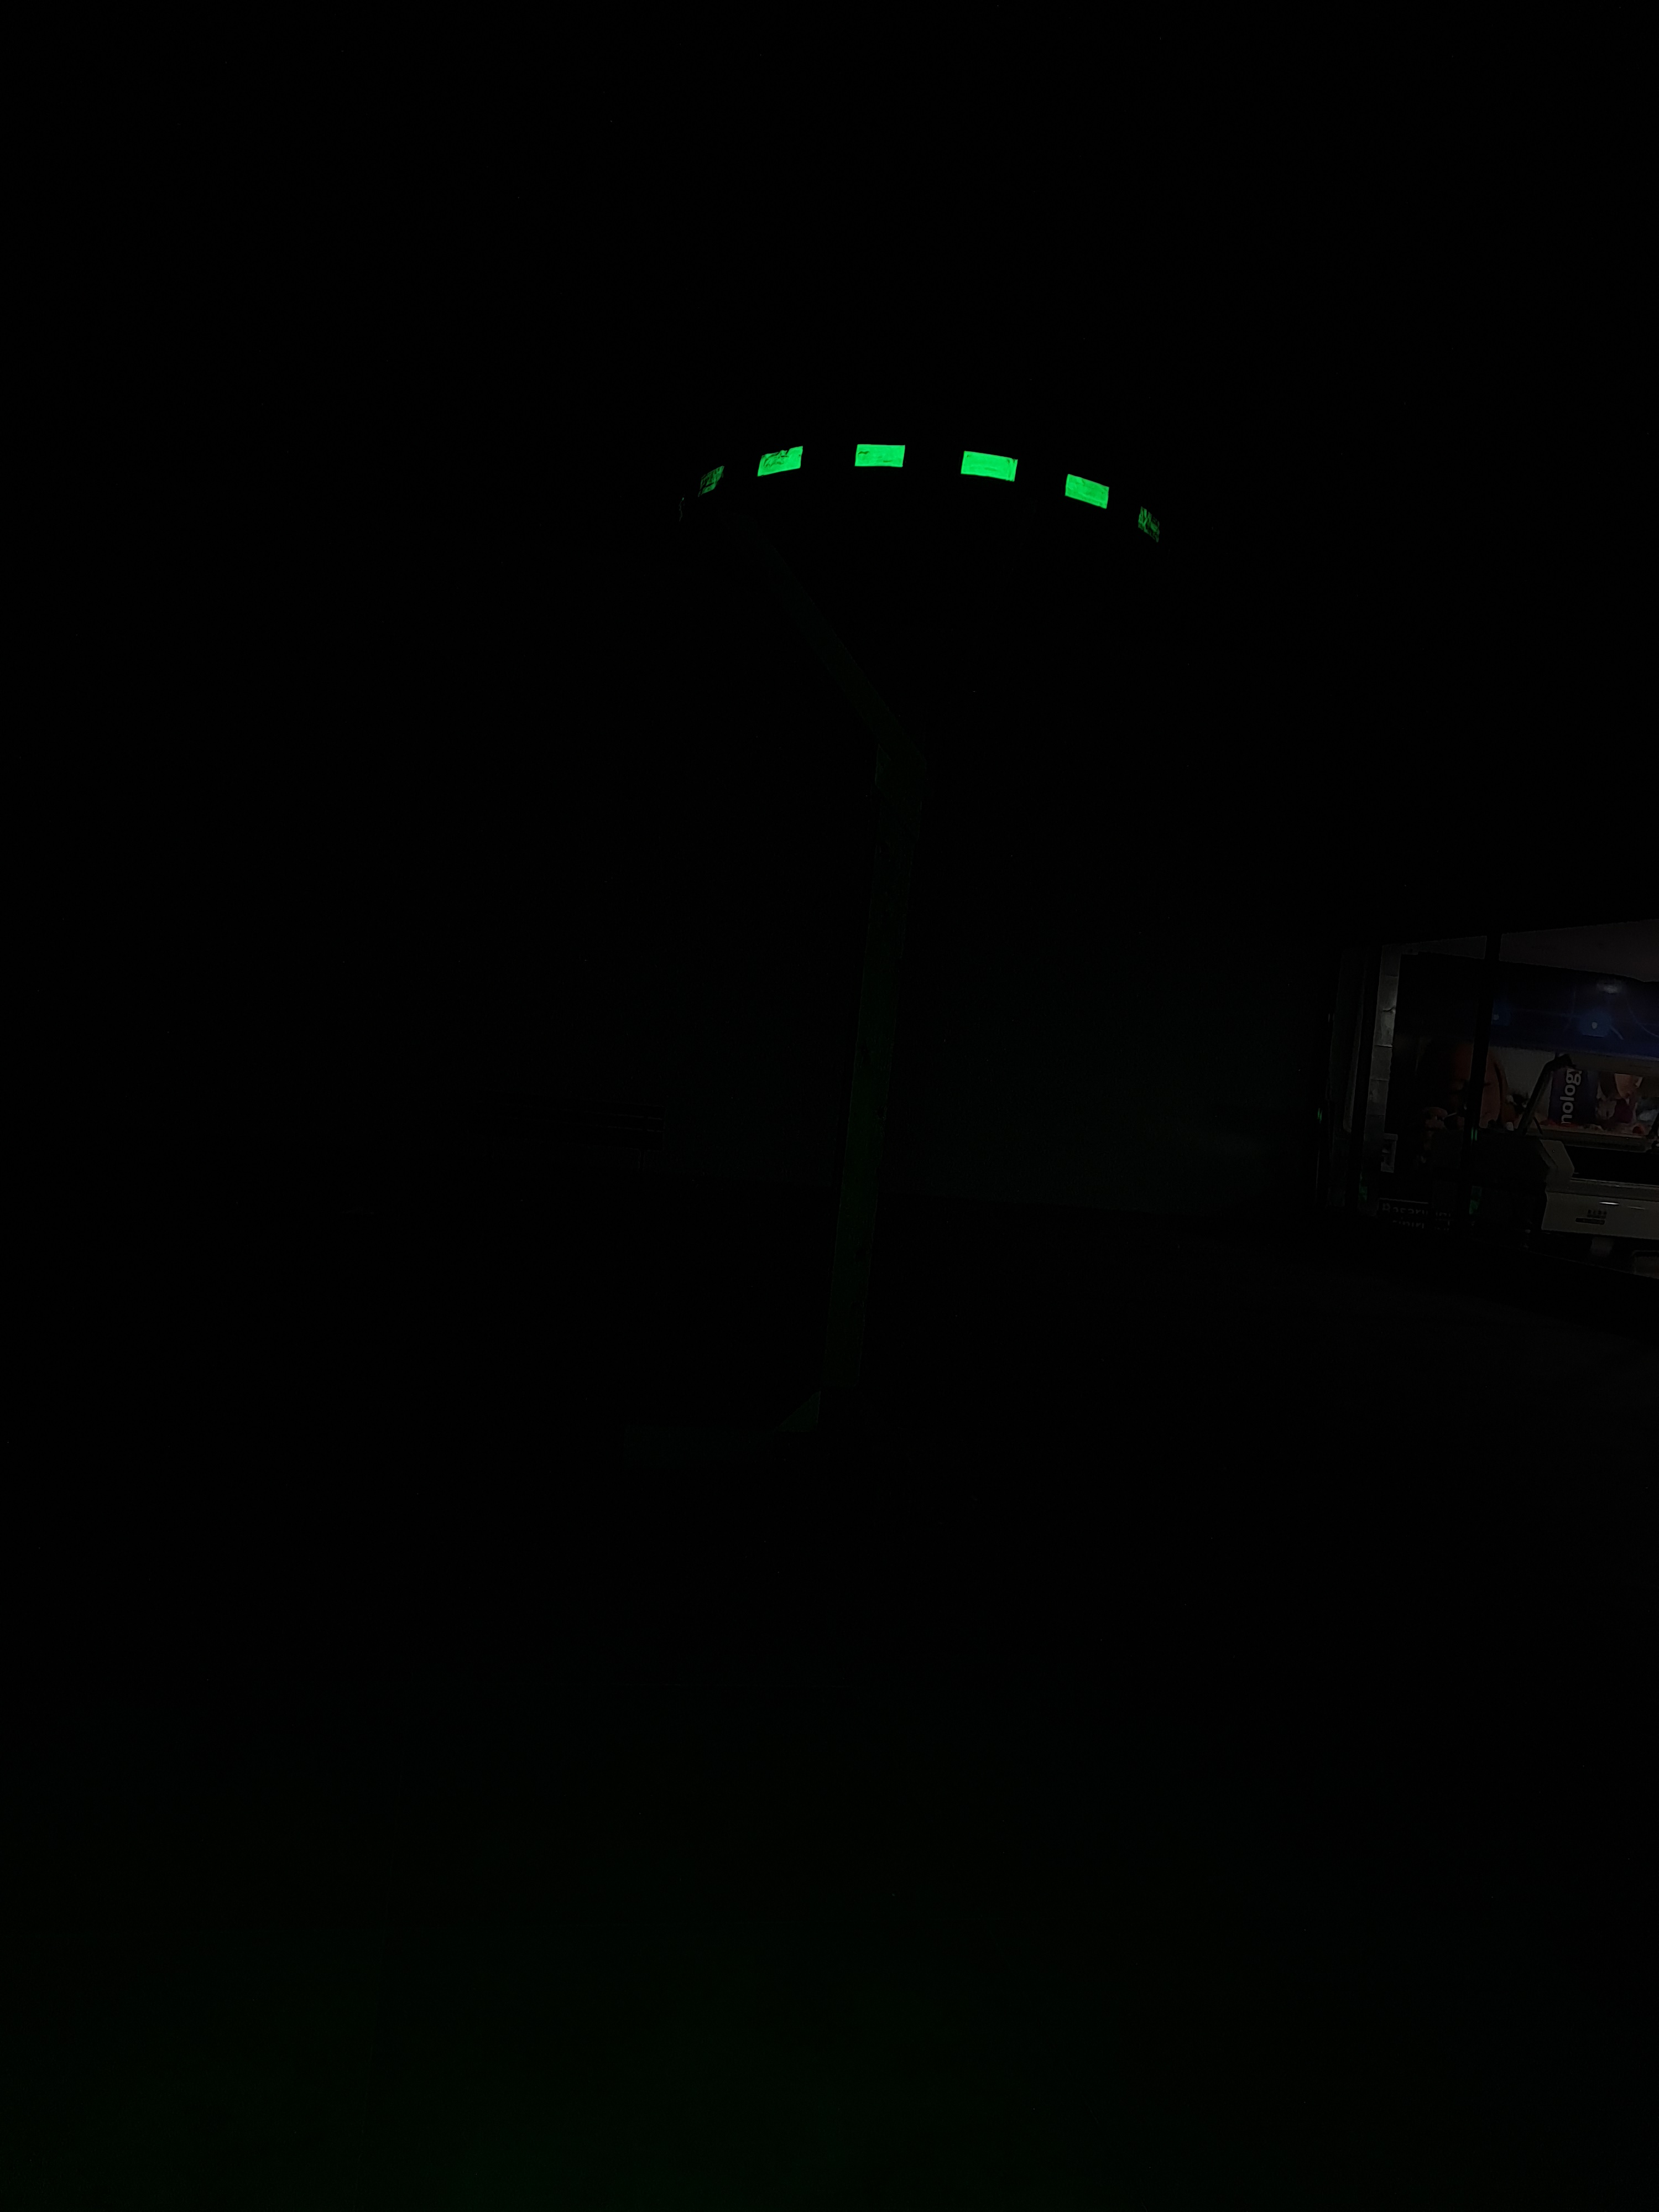hoop: (645, 421, 1182, 571)
